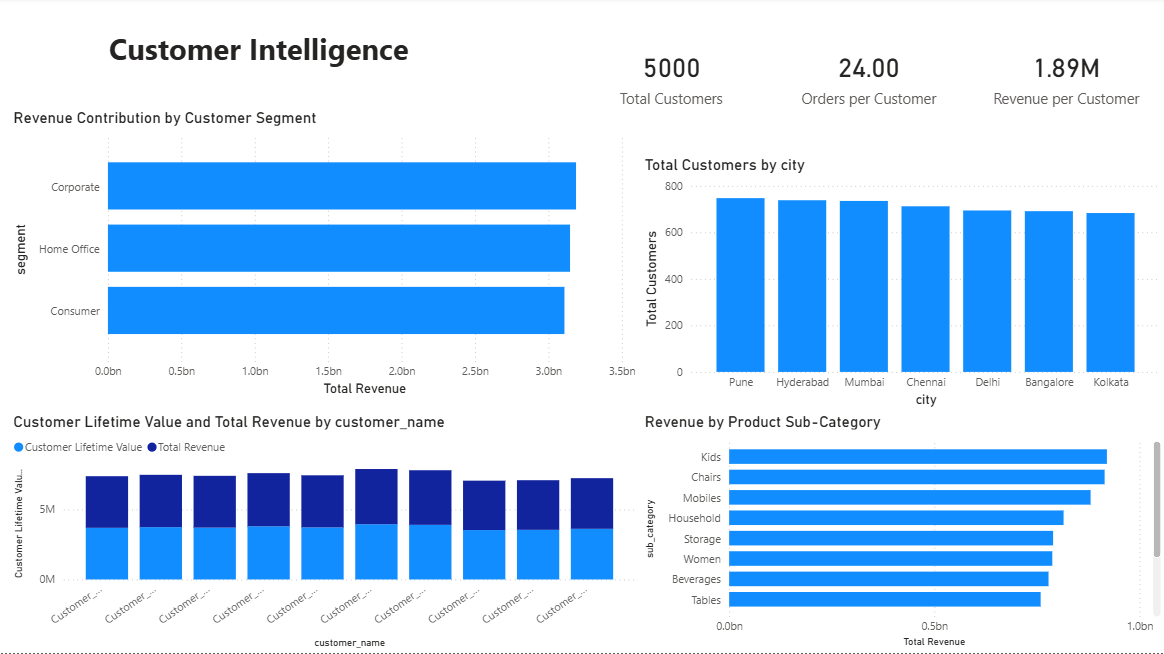

What the dashboard file says about the page in this screenshot:
{"tool":"powerbi","page":{"name":"Page 2","canvas":[1280,720],"ordinal":1},"visuals":[{"type":"card","fields":{"Values":["customers.Total Customers"]},"box":[629.8,0,216.8,174.3],"z":0},{"type":"card","fields":{"Values":["customers.Orders per Customer"]},"box":[846.7,0,216.8,174.3],"z":1000},{"type":"card","fields":{"Values":["customers.Revenue per Customer"]},"box":[1063.5,0,216.8,174.3],"z":2000},{"type":"clusteredBarChart","title":"Revenue Contribution by Customer Segment","fields":{"Category":["customers.segment"],"Y":["orders.Total Revenue"]},"box":[11,122.1,693,321.1],"z":3000},{"type":"columnChart","fields":{"Category":["customers.customer_name"],"Y":["customers.Customer Lifetime Value","orders.Total Revenue"]},"box":[11,455.6,693,264.8],"z":4000},{"type":"columnChart","fields":{"Category":["customers.city"],"Y":["customers.Total Customers"]},"box":[703.9,174.3,576.3,281.3],"z":5000},{"type":"clusteredBarChart","title":"Revenue by Product Sub-Category","fields":{"Category":["products.sub_category"],"Y":["orders.Total Revenue"]},"box":[703.9,455.6,576.3,263.5],"z":6000},{"type":"textbox","box":[11,30.2,548.9,57.6],"z":6001}]}

Visuals, with their boxes in screenshot pixels (x1, y1, x2, y2), scaled from the page's 1280x720 canvas onto the 1164x654 screenshot:
card - customers.Total Customers: rect(573, 0, 770, 158)
card - customers.Orders per Customer: rect(770, 0, 967, 158)
card - customers.Revenue per Customer: rect(967, 0, 1163, 158)
"Revenue Contribution by Customer Segment" clusteredBarChart: rect(10, 111, 640, 403)
columnChart - customers.customer_name x customers.Customer Lifetime Value: rect(10, 414, 640, 653)
columnChart - customers.city x customers.Total Customers: rect(640, 158, 1163, 414)
"Revenue by Product Sub-Category" clusteredBarChart: rect(640, 414, 1163, 653)
textbox: rect(10, 27, 509, 80)
